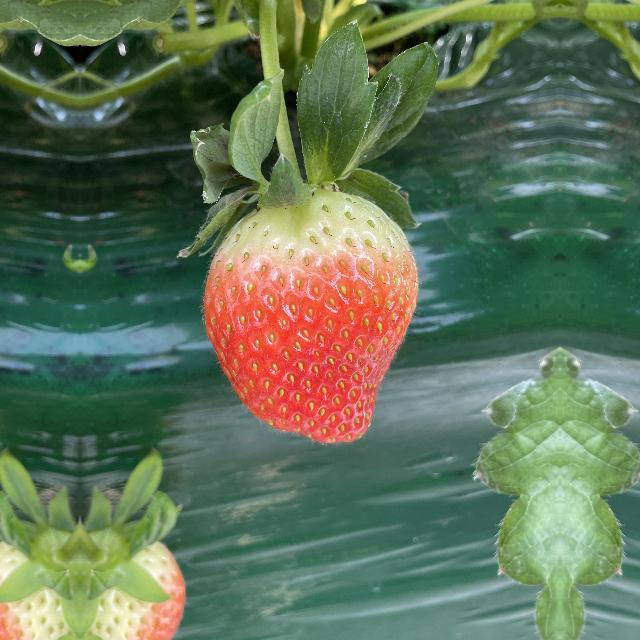Health_100: (185, 183, 423, 454)
Health_50: (80, 530, 190, 640), (0, 530, 80, 639)
